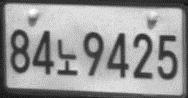2: (132, 32, 154, 80)
4: (105, 32, 129, 78), (31, 29, 54, 75)
5: (156, 34, 178, 80)
8: (8, 28, 30, 74)
9: (82, 31, 104, 76)
노: (56, 38, 78, 77)
